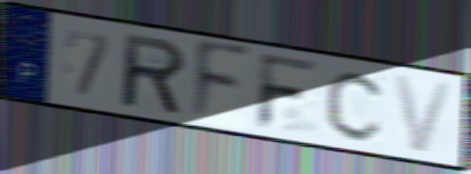7: (62, 27, 111, 98)
C: (323, 68, 389, 144)
F: (188, 37, 254, 125), (253, 51, 322, 133)
R: (121, 30, 189, 118)
V: (391, 72, 457, 156)
